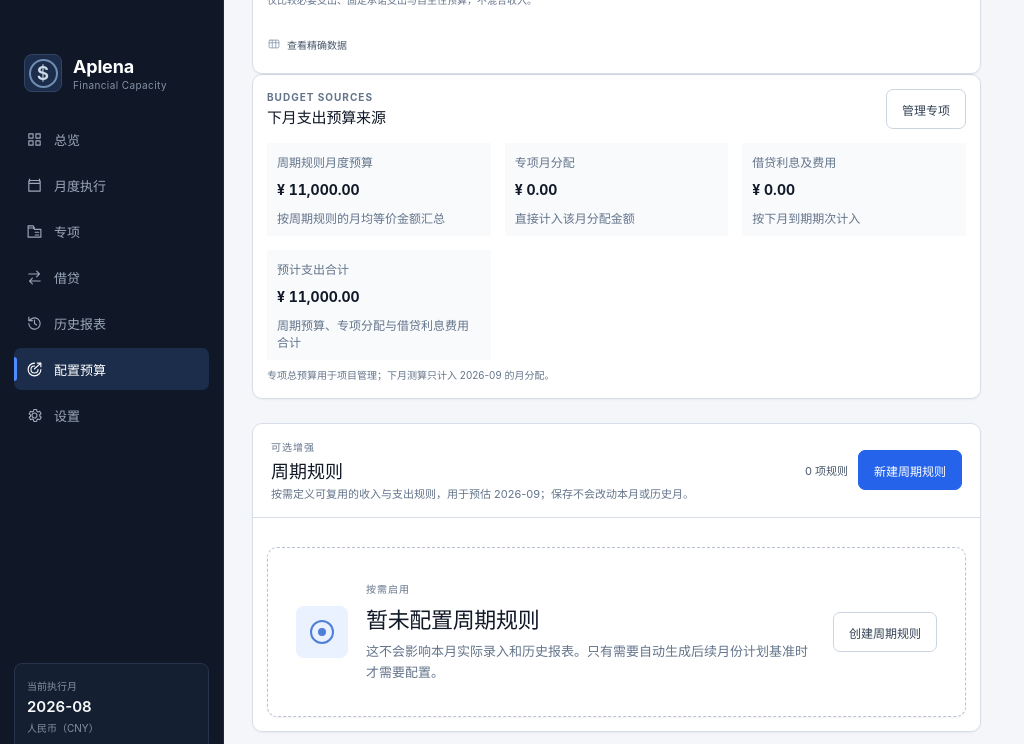
Scenario: planning workflows › previews and creates an AMORTIZED plan without frontend financial arithmetic
(page scrolled)
Click the button "新建周期规则".
click(910, 470)  # box [858,450,962,490]
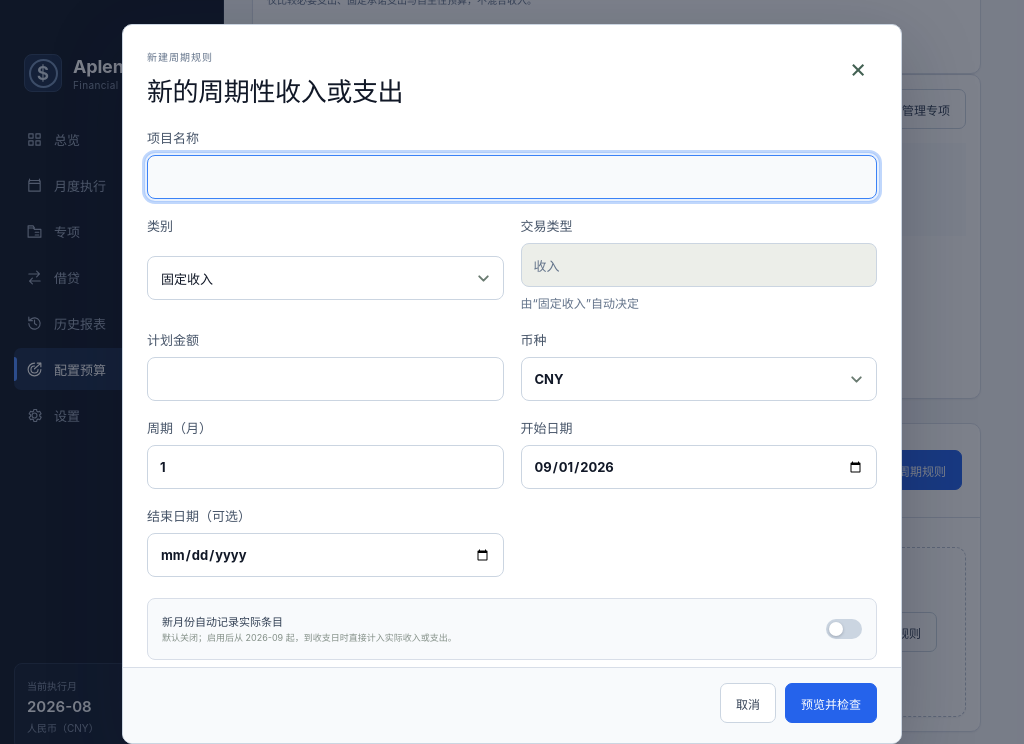
Type "云服务器" into the field labelled "项目名称".
click(512, 177); type("云服务器")  # box [147,155,877,199]
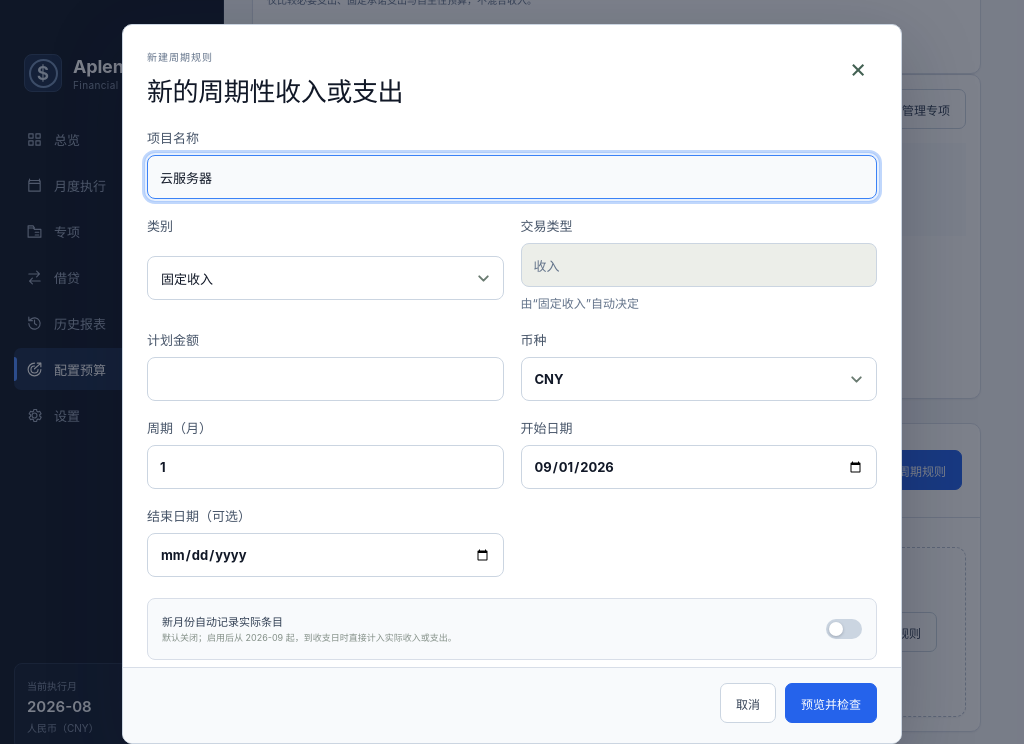
Type "1200" into the field labelled "计划金额".
click(325, 379); type("1200")  # box [147,357,504,401]
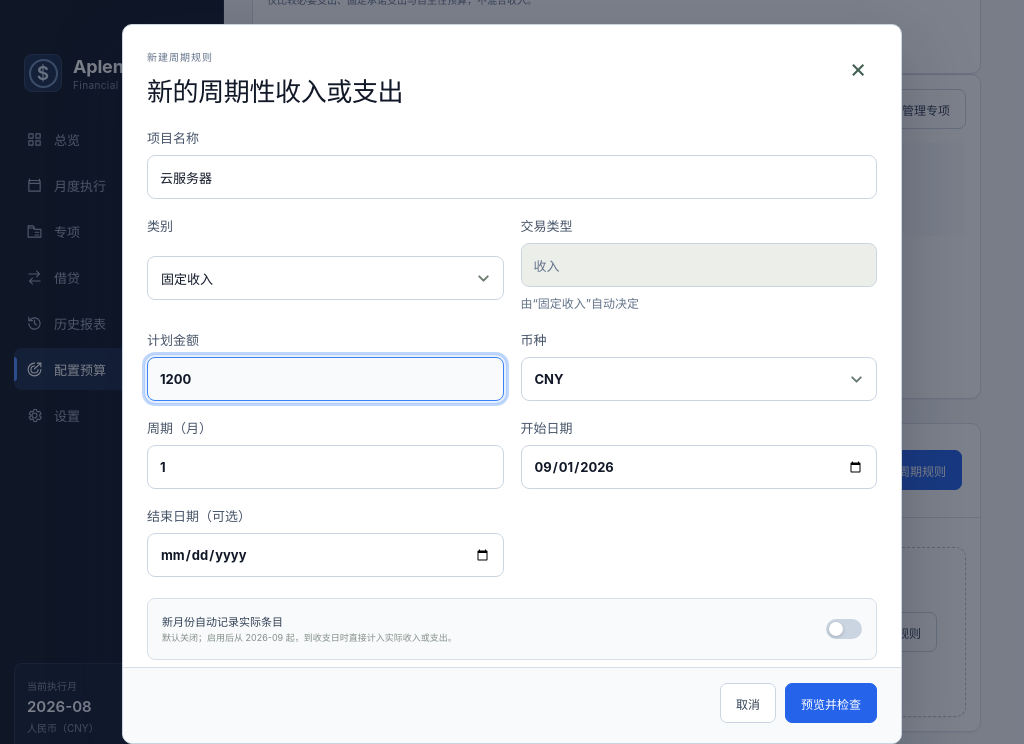
Click the button "预览并检查".
click(831, 703)  # box [785,683,877,723]
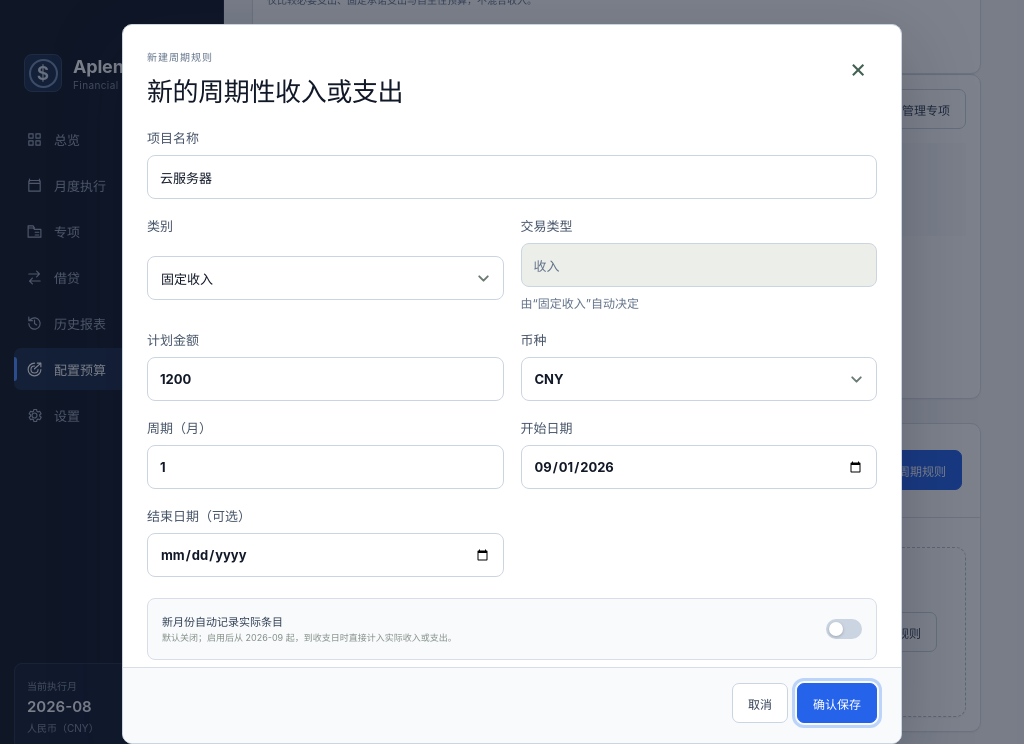
Click the button "确认保存".
click(837, 703)  # box [797,683,877,723]
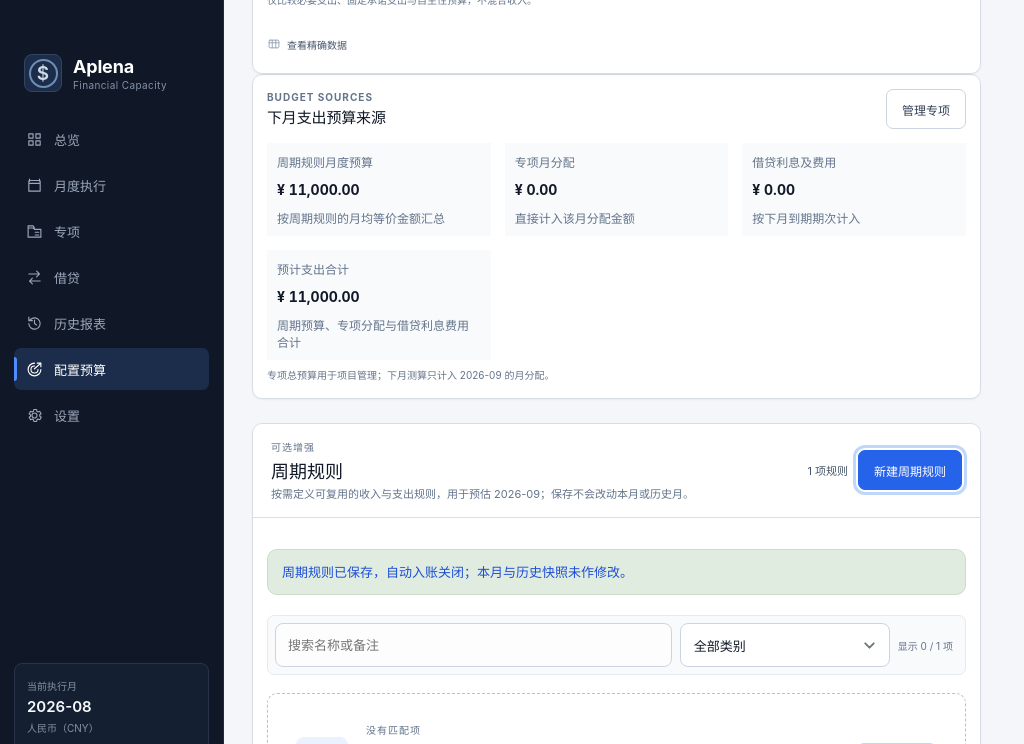
Expected: the text "周期规则已保存，自动入账关闭；本月与历史快照未作修改。" is shown, [267,549,966,595]
